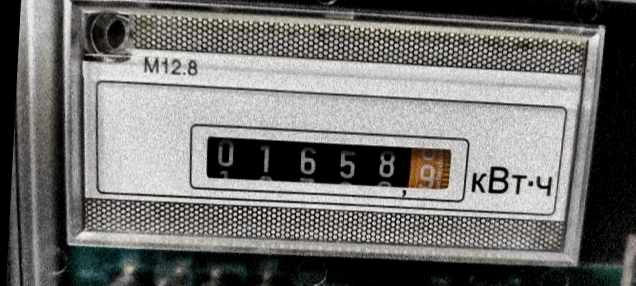0: (215, 136, 237, 169)
1: (258, 142, 273, 174)
5: (338, 148, 359, 180)
6: (298, 144, 320, 176)
8: (377, 148, 398, 181)
9: (417, 162, 436, 189)
screen: (180, 114, 475, 208)
